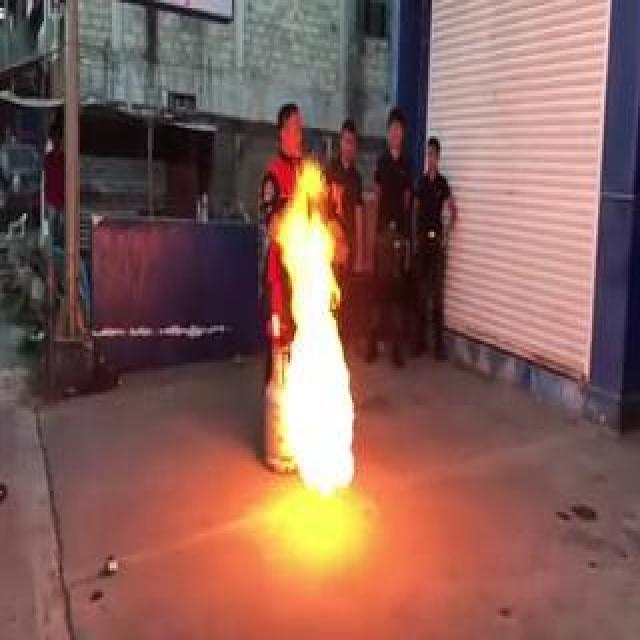Fire: (258, 161, 354, 492)
